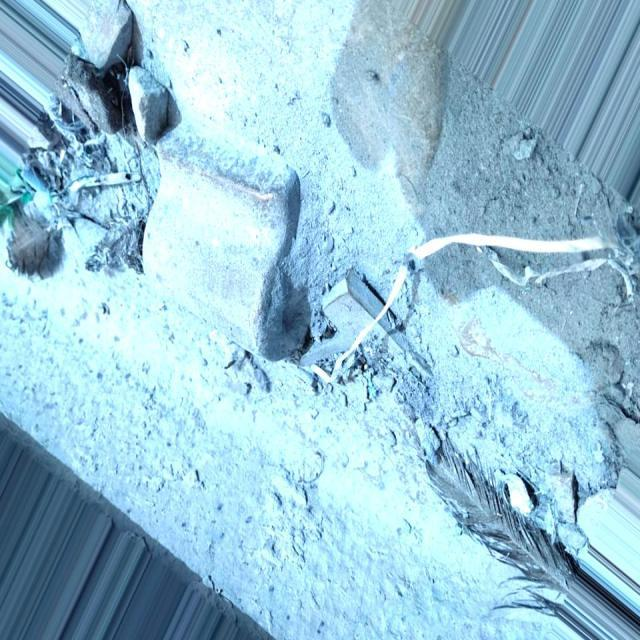Missing Fastener: (109, 95, 322, 393)
